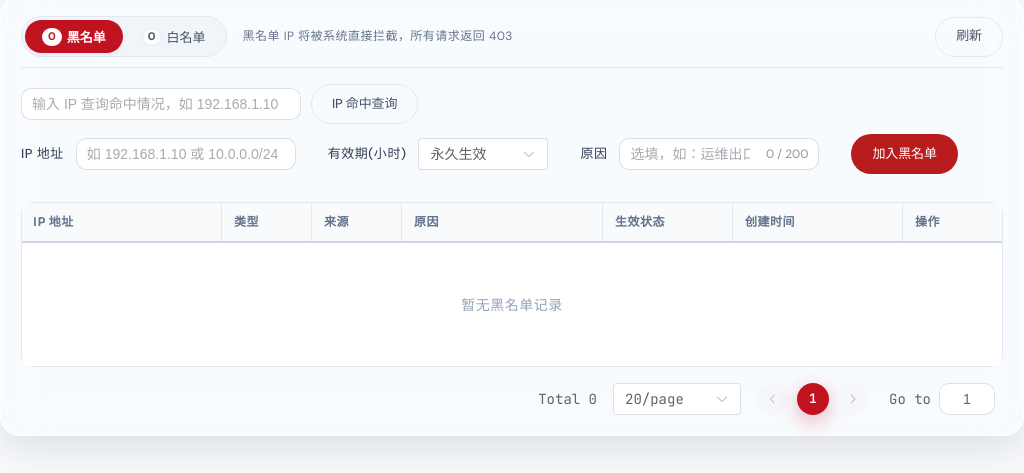
Scenario: IpListView 列表加载与渲染 › 空列表按当前名单类型显示各自空态文案（黑白不得互换）
Expected: the text with class "empty-tip" reads "暂无黑名单记录", 461,296 -> 563,314
Step 1. Click the tab with class "glass-segmented__item" showing "0 白名单" → (174,36), box 125,20 -> 223,53
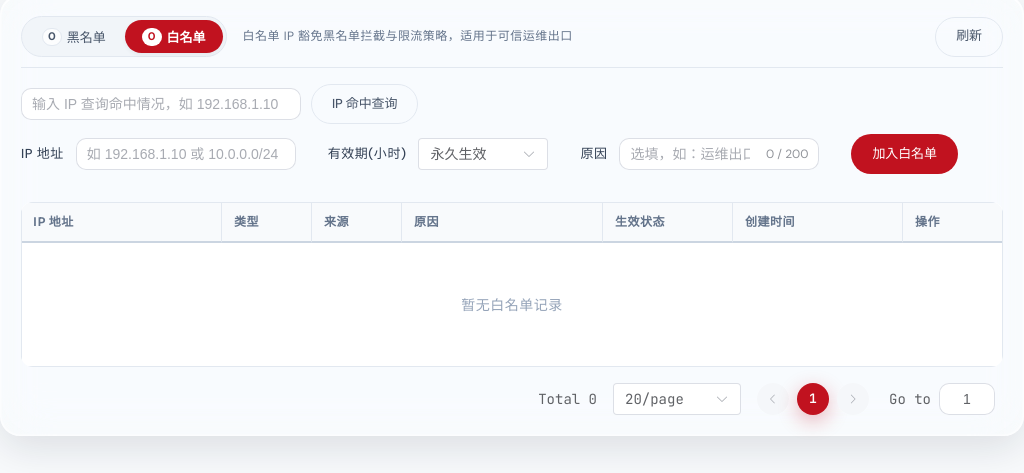
Expected: the text with class "empty-tip" reads "暂无白名单记录", 461,296 -> 563,314
